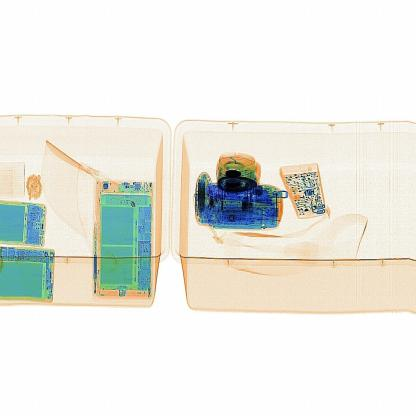pliers: (203, 178, 278, 210)
